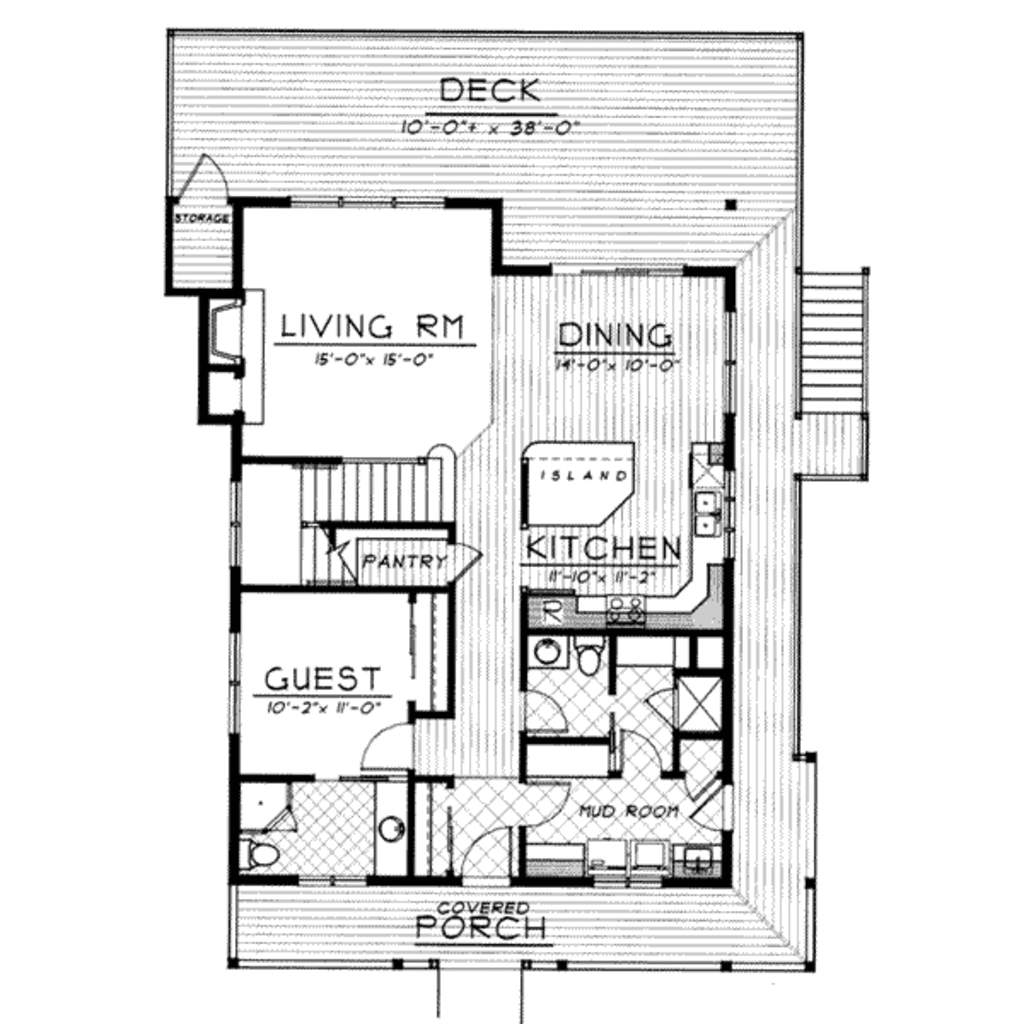door: (453, 817, 519, 891), (178, 147, 241, 214), (522, 777, 586, 833), (353, 719, 416, 774), (519, 689, 583, 735), (617, 717, 667, 775), (686, 782, 738, 835), (645, 688, 678, 732), (691, 774, 725, 807)
kitchen_bar: (513, 421, 655, 532)
large_sink: (236, 839, 295, 877), (570, 630, 611, 678)
small_sink: (375, 783, 419, 878), (517, 633, 573, 674)
stairs: (292, 458, 461, 585), (797, 255, 873, 417)
twin_sink: (686, 482, 731, 552)
window: (281, 189, 445, 213), (222, 474, 253, 567), (222, 633, 248, 738)
